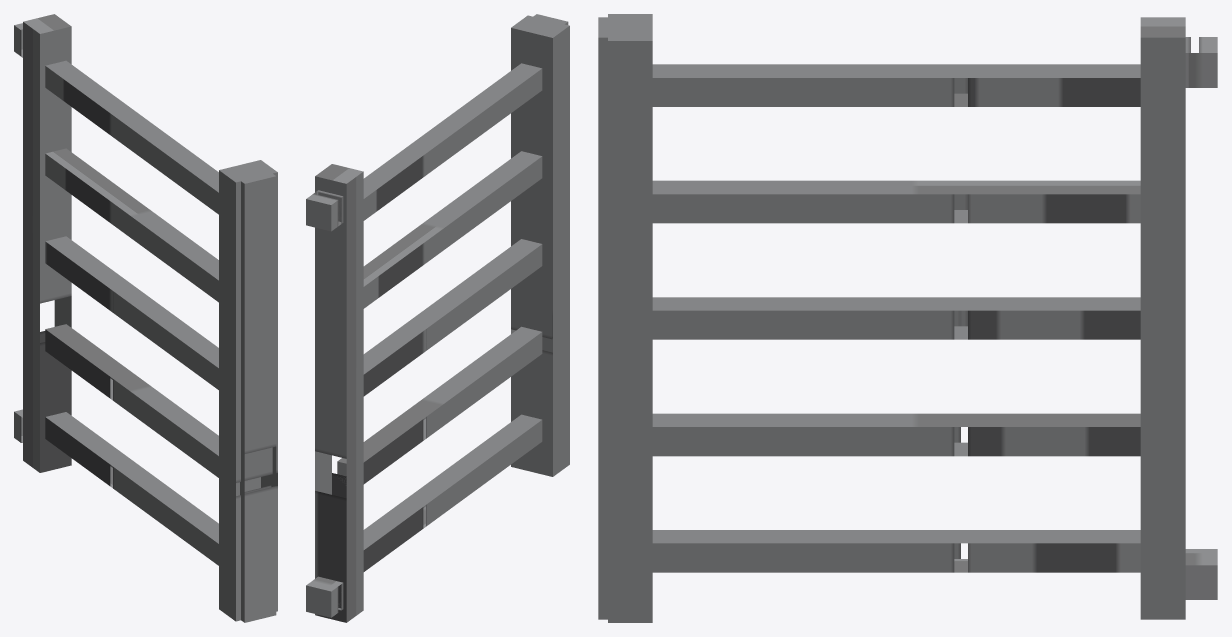
3 views of the same model, side by side, from view 1: azimuth 30°, elevation 25°; view 2: azimuth 150°, elevation 25°; view 3: azimuth 270°, elevation 25° (orthographic). The views are drawn at different scales.
Size of the model in its own units: 0.1 by 1 by 0.965.
